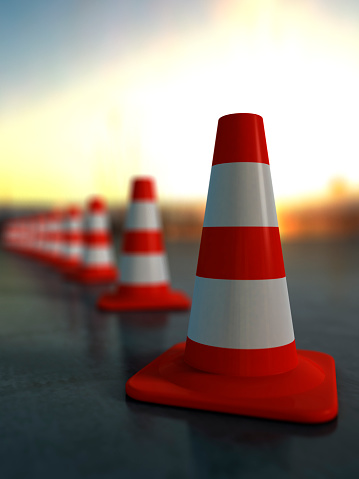trafficcone: (125, 113, 339, 424), (98, 178, 190, 313)
